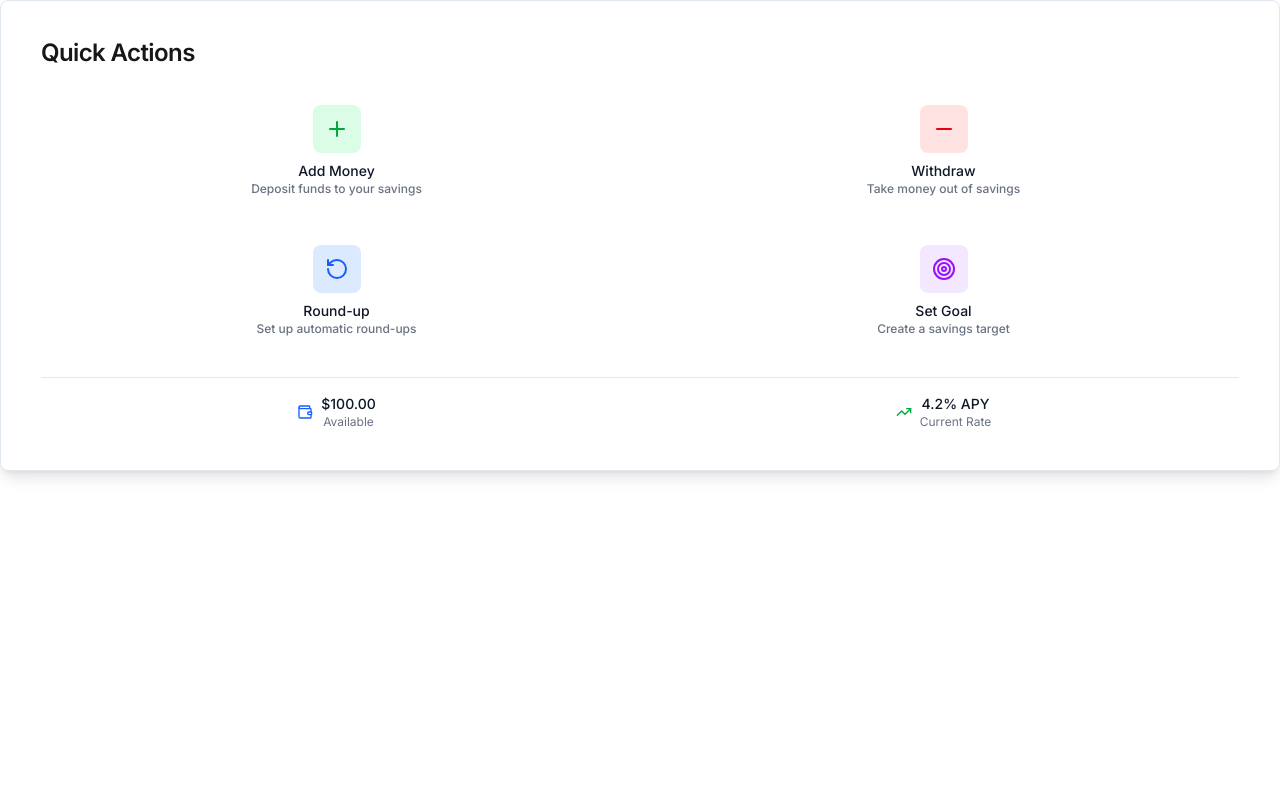
Dashboard Components › Error Handling › validates withdrawal amount against available balance
// Open withdraw modal
Step 1. Click the text "Withdraw" → coordinates (943, 170), box [911,162,976,179]
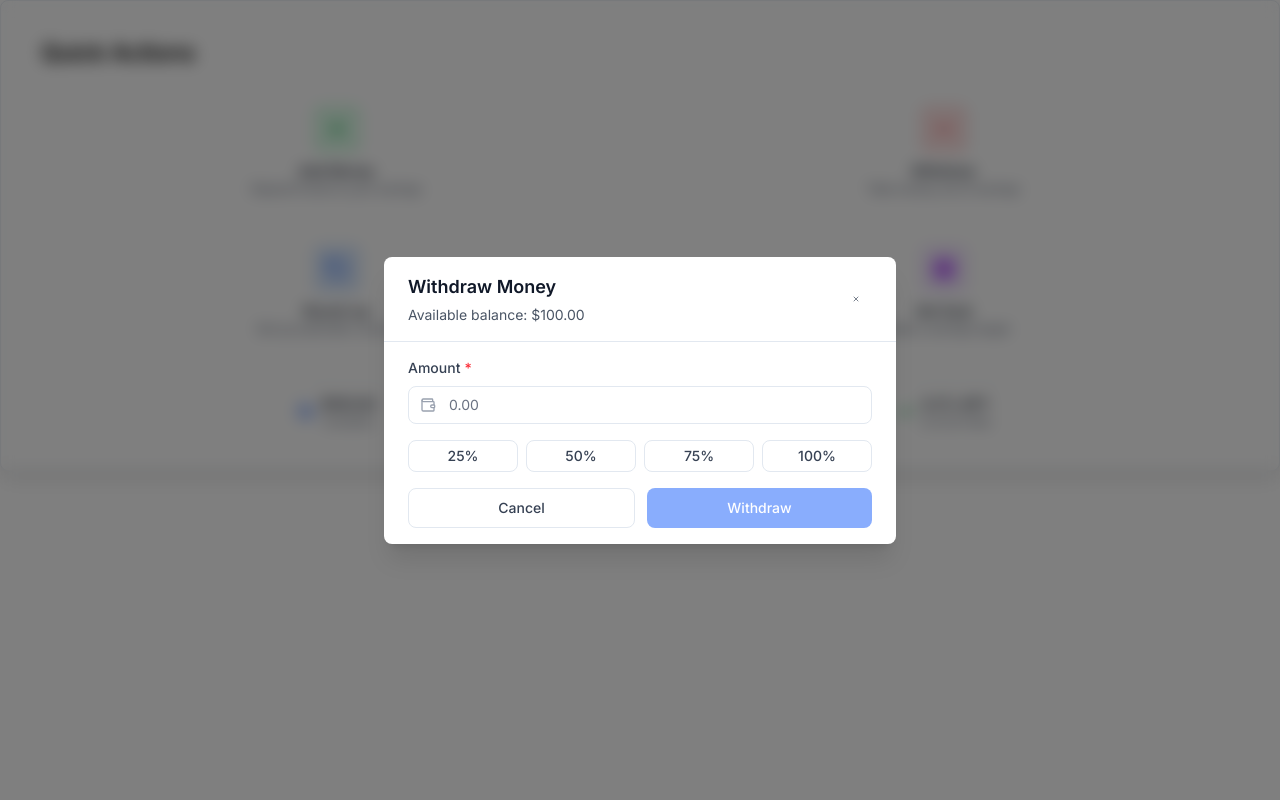
// Try to withdraw more than available
Step 2. Type "200" into the number field with placeholder "0.00" → coordinates (640, 404), box [408,386,872,424]
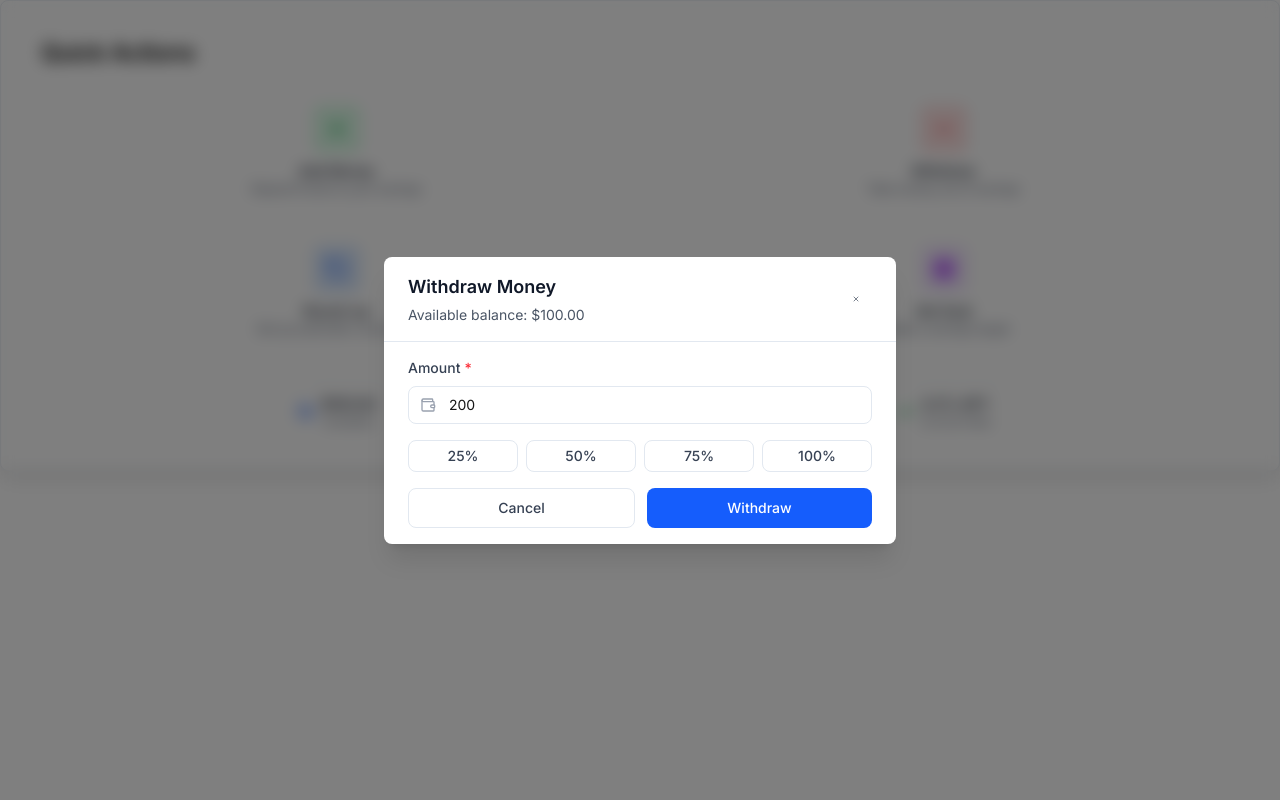
Step 3. Click the button "Withdraw" → coordinates (760, 508), box [647,488,872,528]
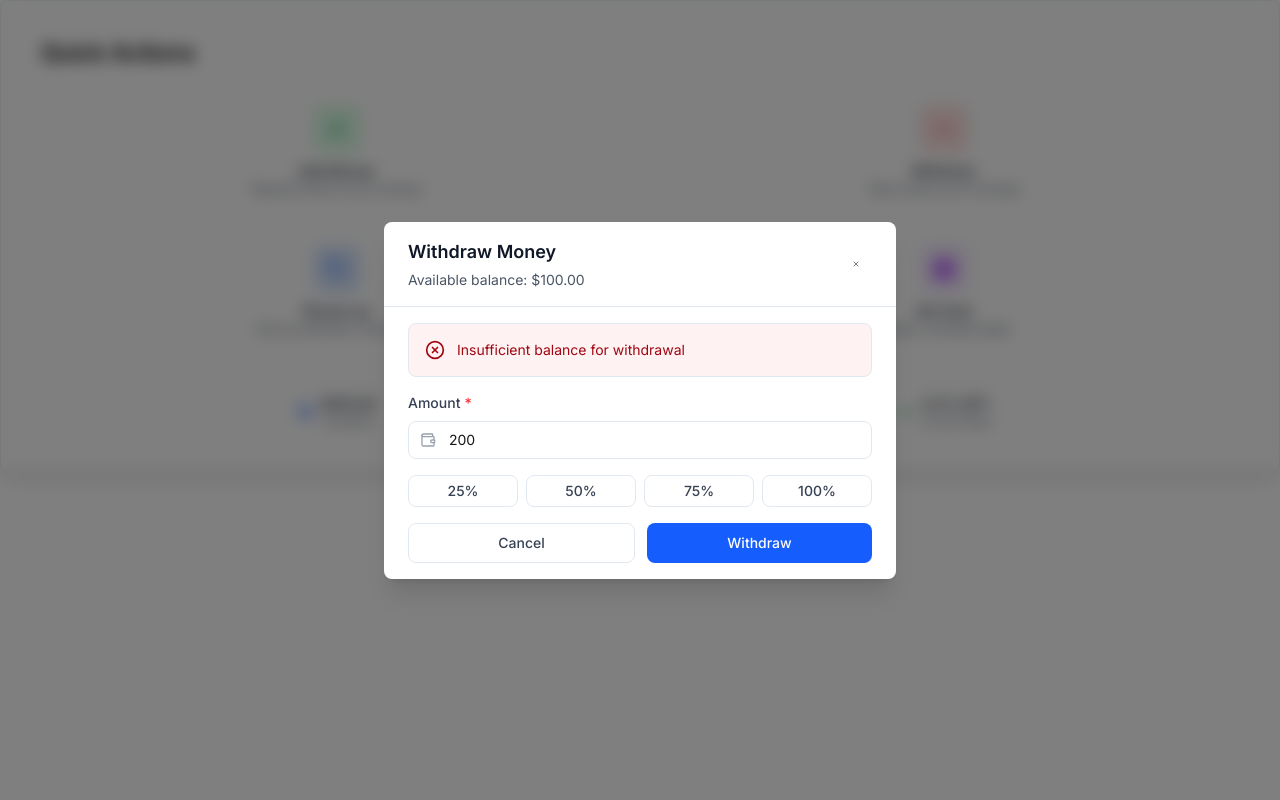
Now the text "Insufficient balance for withdrawal" is shown, box [457,340,685,358]
